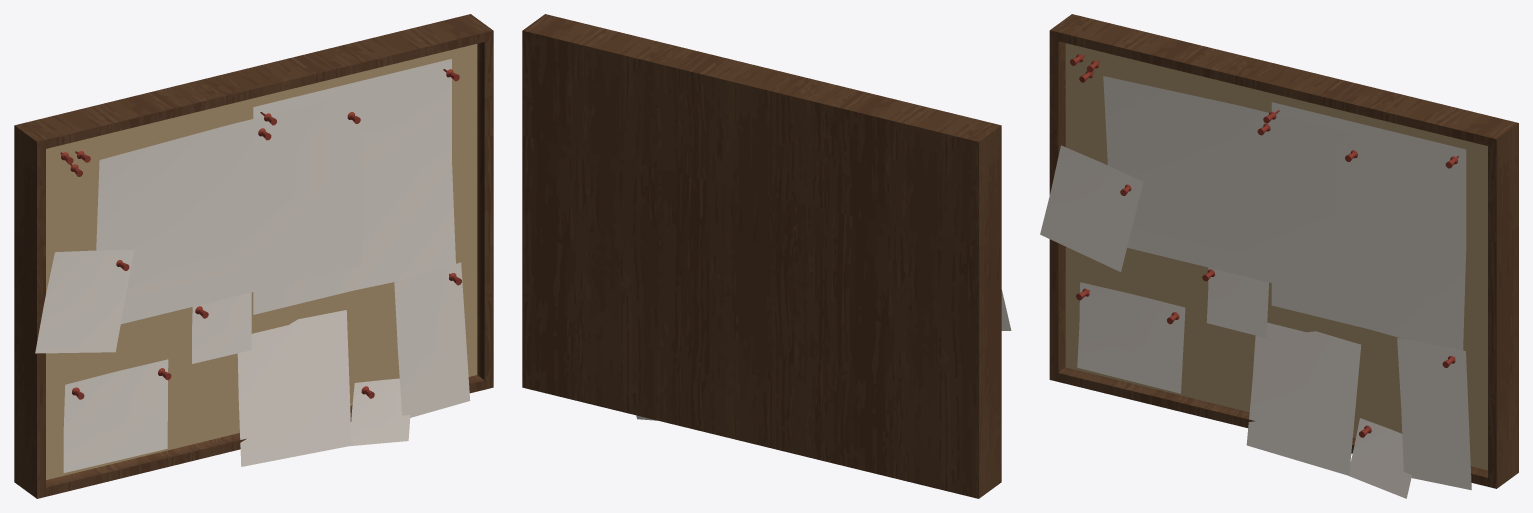
File: officeBoard.glb
The picture shows the model from 3 angles, left to right: view 1: azimuth 30°, elevation 25°; view 2: azimuth 150°, elevation 25°; view 3: azimuth 330°, elevation 25°; orthographic projection. The views are drawn at different scales.
Visible parts, largest first — view 1: Cube.11647_1; view 2: Cube.11647_1; view 3: Cube.11647_1.
Boxes of the visible parts, x1,y1,x2,y2 form: Cube.11647_1: (14,14,493,498); Cube.11647_1: (522,14,1011,498); Cube.11647_1: (1040,14,1518,498).
Size of the model in its own units: 1.09 by 0.8724 by 0.1292.
4 materials, 1 textured.
